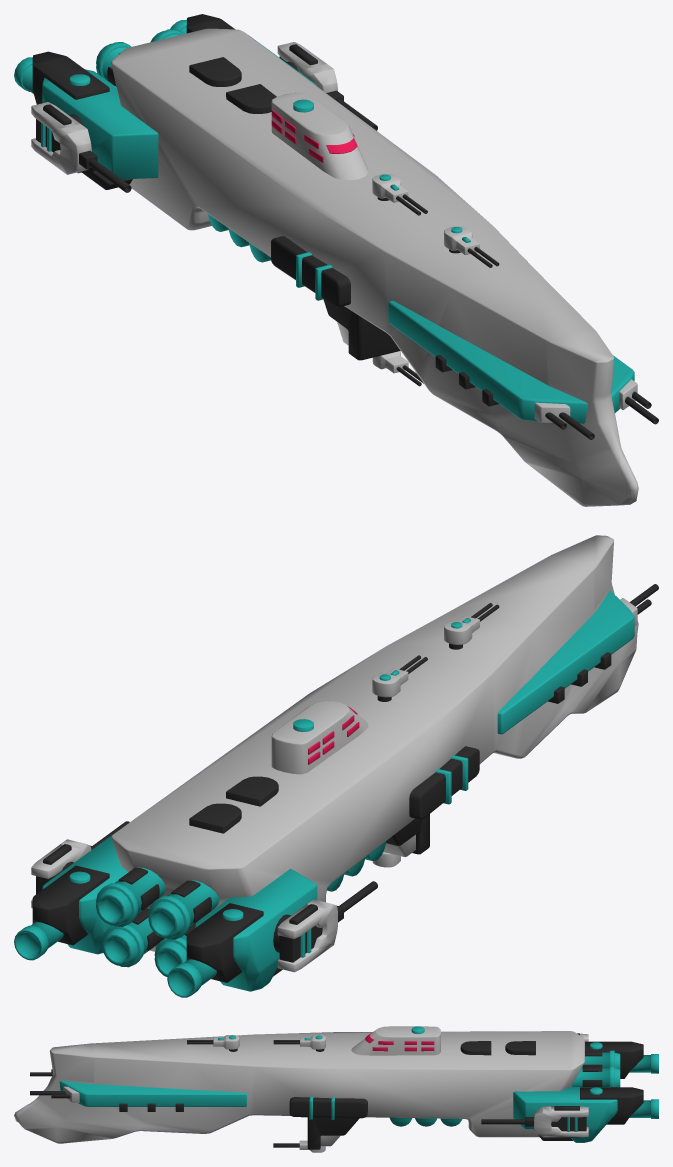
The picture shows the model from 3 angles, top to bottom: view 1: azimuth 30°, elevation 25°; view 2: azimuth 150°, elevation 25°; view 3: azimuth 270°, elevation 25°; orthographic projection. The views are drawn at different scales.
Visible parts, largest first — view 1: Destroyer_2.004; view 2: Destroyer_2.004; view 3: Destroyer_2.004.
Part boxes in pixels (x1,y1,x2,y2): Destroyer_2.004: (14,14,658,506); Destroyer_2.004: (14,535,658,997); Destroyer_2.004: (14,1026,658,1152).
Bounding box in the file's own units: 21.2 × 15.27 × 73.2.
